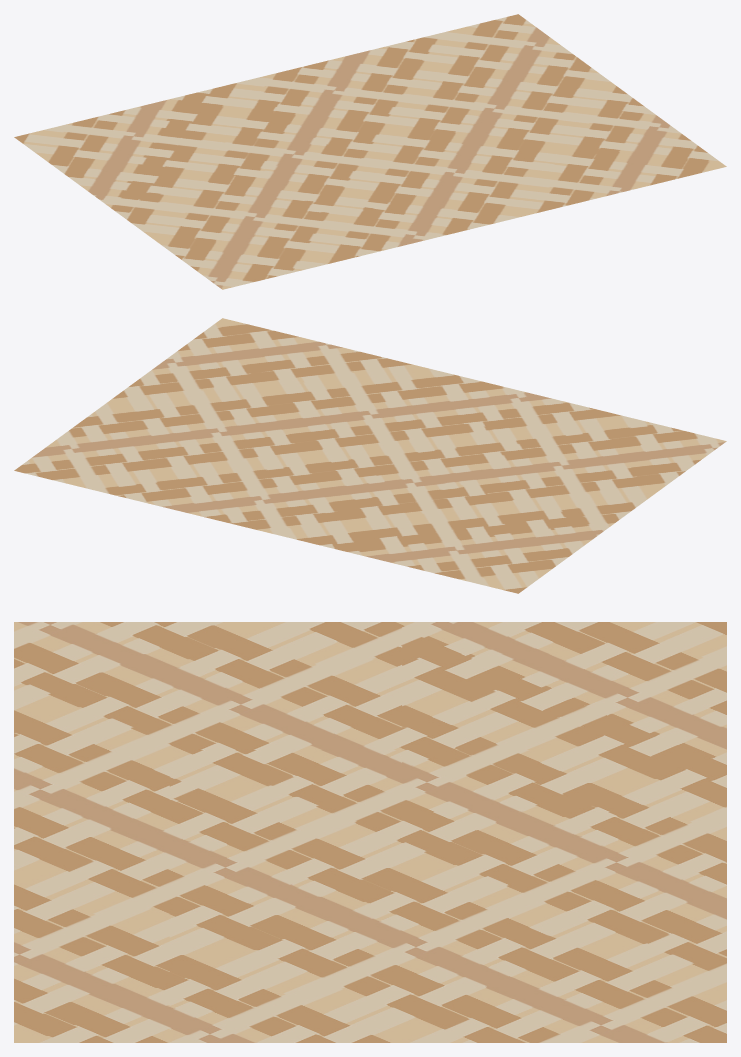
The model's file is Ground.fbx.
The picture shows the model from 3 angles, top to bottom: view 1: azimuth 30°, elevation 25°; view 2: azimuth 150°, elevation 25°; view 3: azimuth 270°, elevation 25°; orthographic projection. The views are drawn at different scales.
Visible parts, largest first — view 1: Plane002_1; view 2: Plane002_1; view 3: Plane002_1.
Part boxes in pixels (x1,y1,x2,y2): Plane002_1: (14,14,726,289); Plane002_1: (14,318,726,593); Plane002_1: (14,622,726,1042).
Bounding box in the file's own units: 73.44 × 0 × 52.58.
Materials: 1 (1 with a texture image).
